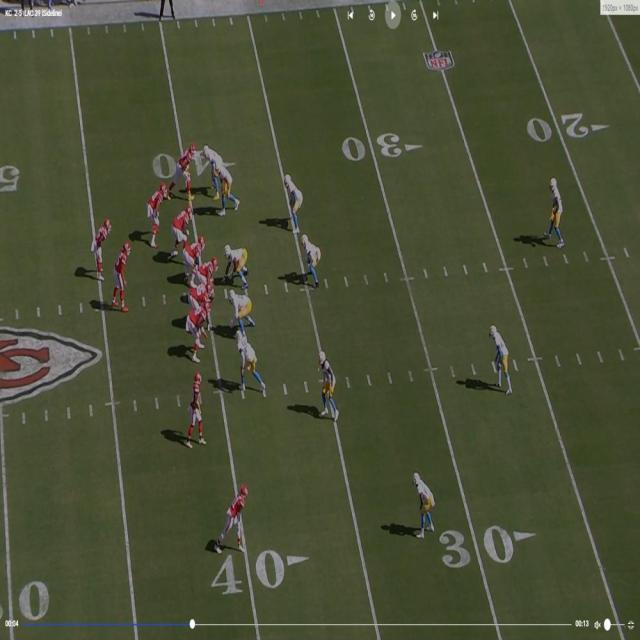center: (196, 258, 222, 282)
db: (490, 325, 510, 388), (412, 473, 432, 535), (548, 173, 565, 244), (204, 142, 222, 163)
lb: (299, 229, 321, 286), (216, 157, 236, 219), (321, 351, 338, 413), (287, 174, 303, 234)
qb: (112, 241, 130, 313)
skill: (219, 490, 248, 551), (188, 369, 202, 448), (177, 142, 196, 200), (147, 184, 165, 238), (97, 219, 112, 283)
